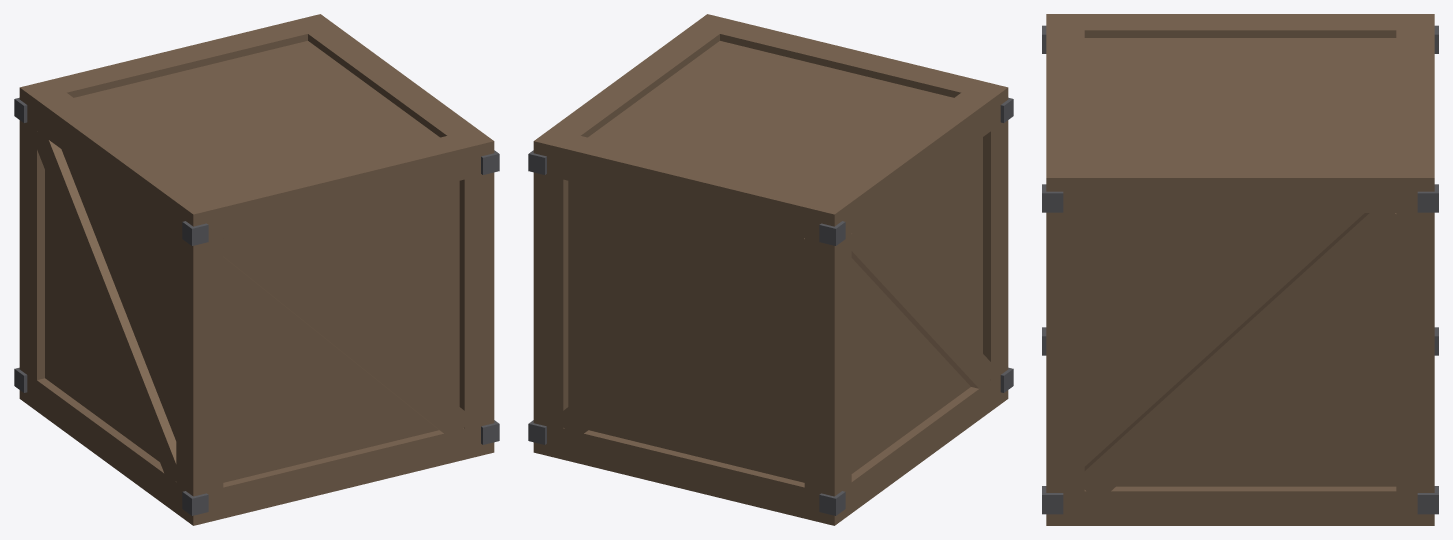
The model's file is crate.glb.
The picture shows the model from 3 angles, left to right: view 1: azimuth 30°, elevation 25°; view 2: azimuth 150°, elevation 25°; view 3: azimuth 270°, elevation 25°; orthographic projection. The views are drawn at different scales.
Parts seen in each view (by area): view 1: Crate; view 2: Crate; view 3: Crate.
Boxes of the visible parts, x1,y1,x2,y2 form: Crate: (14, 14, 499, 525); Crate: (528, 14, 1013, 525); Crate: (1042, 14, 1438, 525).
Bounding box in the file's own units: 0.93 × 0.9 × 0.93.
